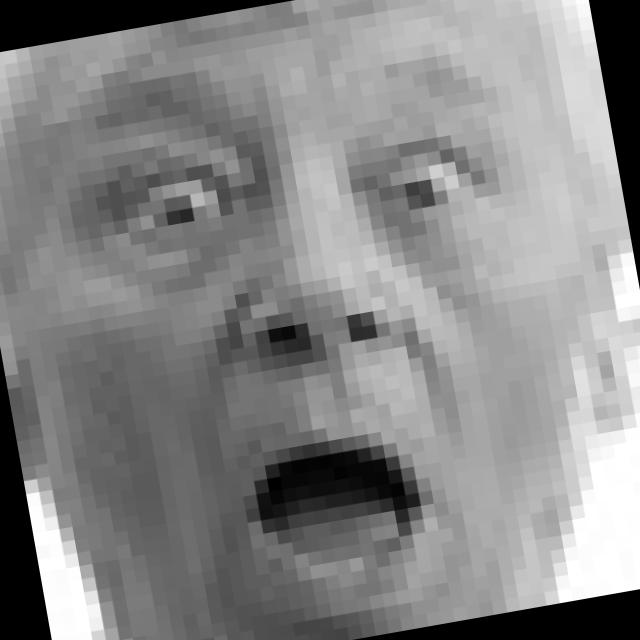surprise: (67, 36, 586, 618)
